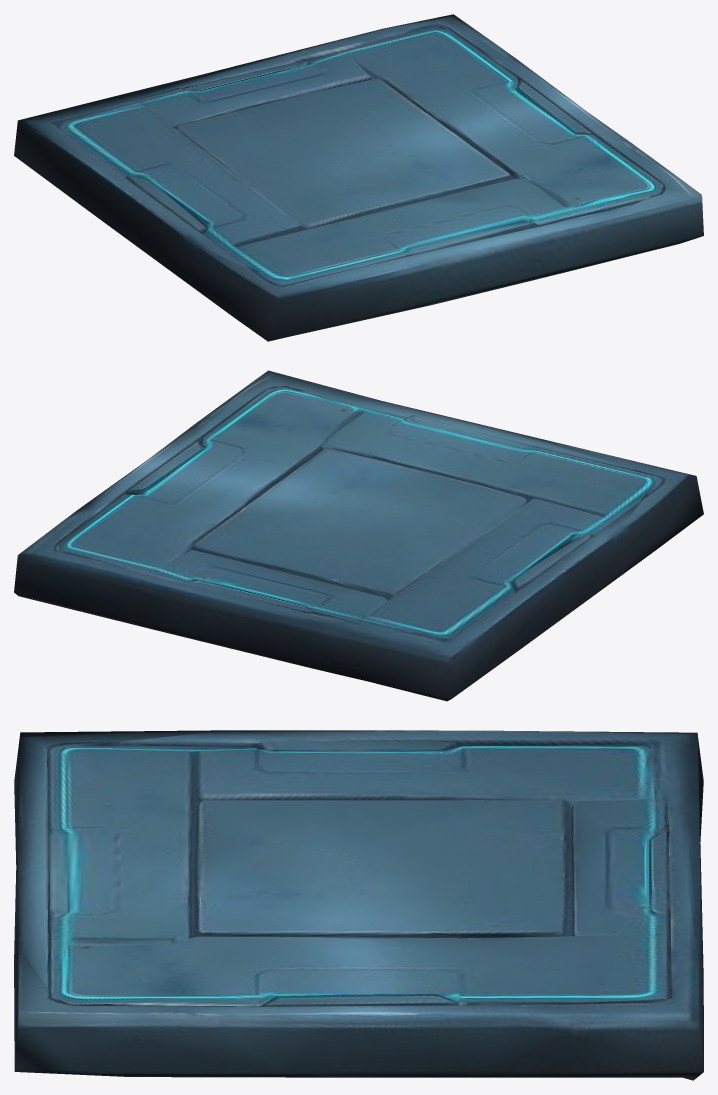
The model's file is sol_dalle_02.glb.
3 views of the same model, one above another, from view 1: azimuth 30°, elevation 25°; view 2: azimuth 150°, elevation 25°; view 3: azimuth 270°, elevation 25° (orthographic). The views are drawn at different scales.
Visible parts, largest first — view 1: tripo_node_d61843f7-eaa6-4aac-8de6-60df9df30e23; view 2: tripo_node_d61843f7-eaa6-4aac-8de6-60df9df30e23; view 3: tripo_node_d61843f7-eaa6-4aac-8de6-60df9df30e23.
Boxes of the visible parts, left/top/right/bottom form: tripo_node_d61843f7-eaa6-4aac-8de6-60df9df30e23: left=14, top=14, right=703, bottom=341; tripo_node_d61843f7-eaa6-4aac-8de6-60df9df30e23: left=14, top=370, right=703, bottom=701; tripo_node_d61843f7-eaa6-4aac-8de6-60df9df30e23: left=14, top=730, right=703, bottom=1080.
Bounding box in the file's own units: 0.9984 × 0.1094 × 1.
1 material, 1 textured.
